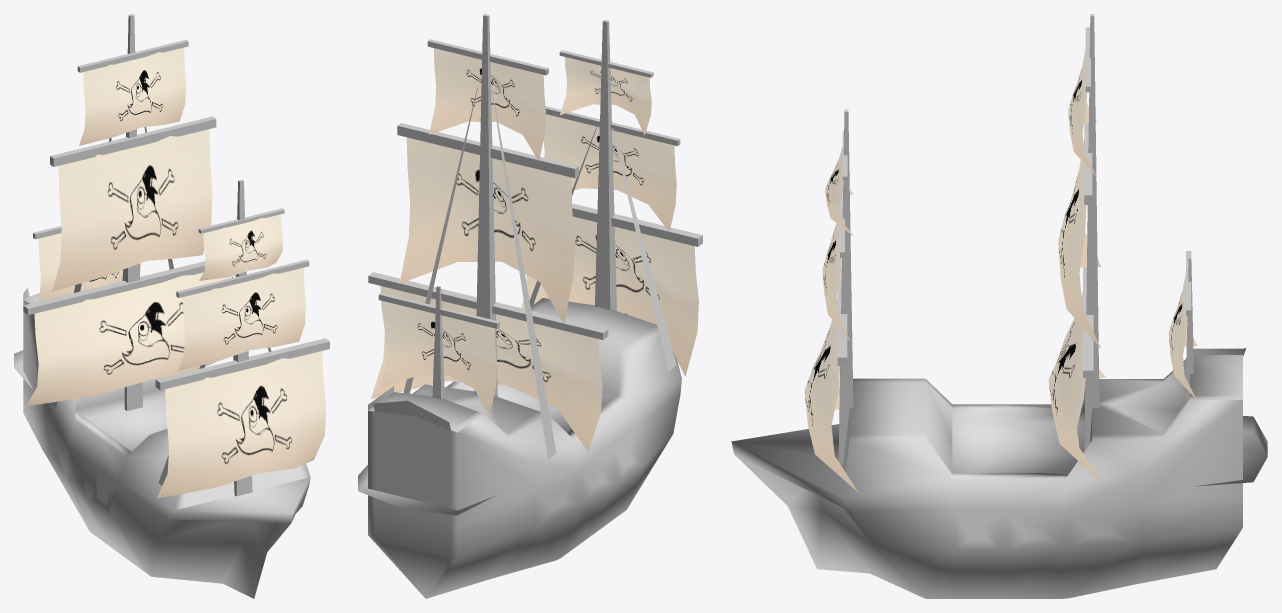
The model's file is boat.glb.
3 views of the same model, side by side, from view 1: azimuth 30°, elevation 25°; view 2: azimuth 150°, elevation 25°; view 3: azimuth 270°, elevation 25° (orthographic). The views are drawn at different scales.
Parts seen in each view (by area): view 1: voile, base; view 2: base, voile; view 3: base, voile.
Boxes of the visible parts, bbox=[...] form: voile: bbox=[26, 47, 326, 498]; base: bbox=[14, 14, 329, 598]; base: bbox=[358, 14, 702, 598]; voile: bbox=[371, 48, 698, 451]; base: bbox=[731, 14, 1267, 598]; voile: bbox=[804, 48, 1197, 492].
Bounding box in the file's own units: 0.7907 × 1.73 × 1.52.
1 material, 1 textured.
